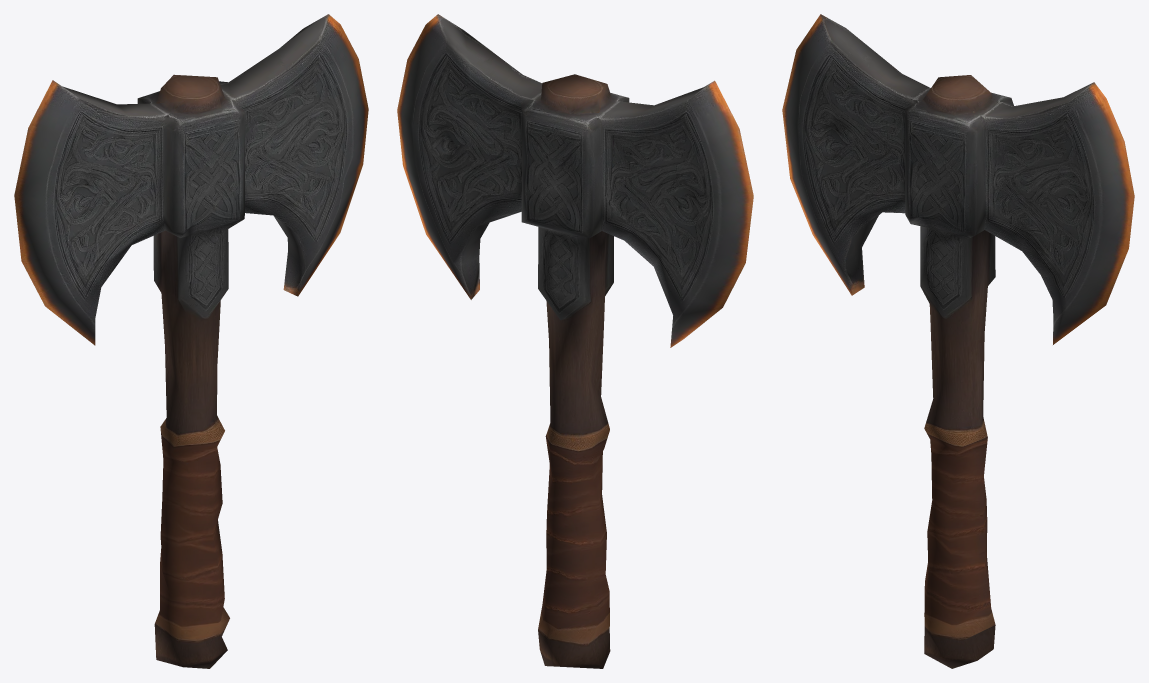
The model's file is axe-viking.glb.
The picture shows the model from 3 angles, left to right: view 1: azimuth 30°, elevation 25°; view 2: azimuth 150°, elevation 25°; view 3: azimuth 330°, elevation 25°; orthographic projection.
Parts seen in each view (by area): view 1: Mesh1.0; view 2: Mesh1.0; view 3: Mesh1.0.
Part boxes in pixels (<box>): Mesh1.0: <box>14,14,368,668</box>; Mesh1.0: <box>397,14,753,668</box>; Mesh1.0: <box>782,14,1134,668</box>.
Bounding box in the file's own units: 1.16 × 1.92 × 0.245.
1 material, 1 textured.
